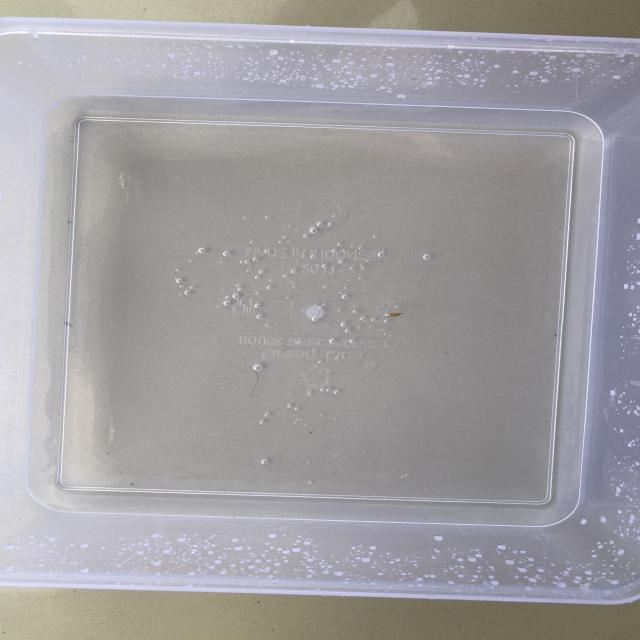Wereng: (380, 304, 404, 323)
